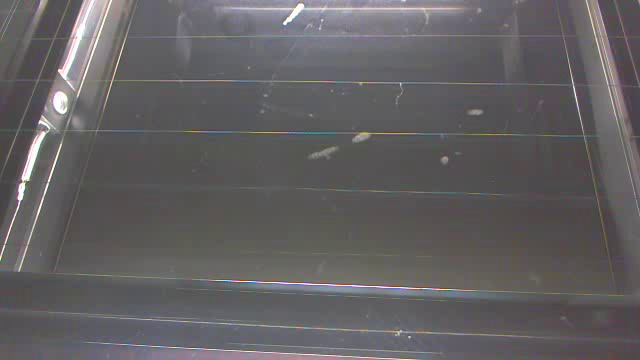alpha: (305, 113, 374, 182), (279, 1, 311, 31), (462, 101, 486, 125), (435, 151, 455, 171)
